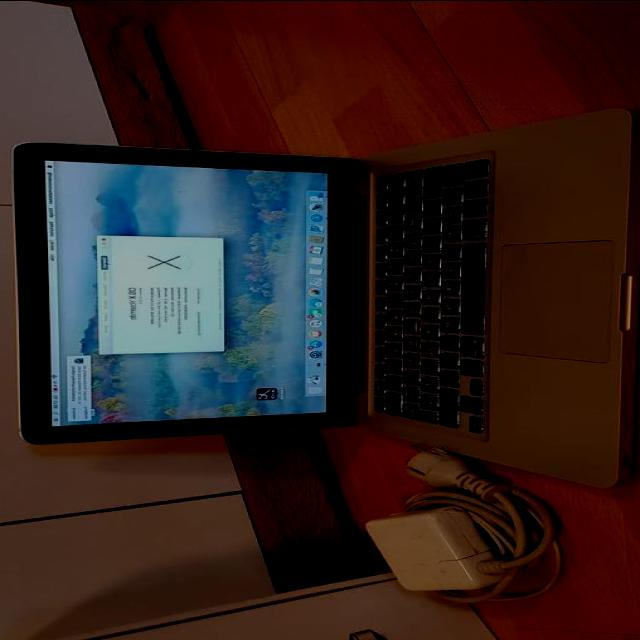keyboard: (368, 155, 492, 435)
